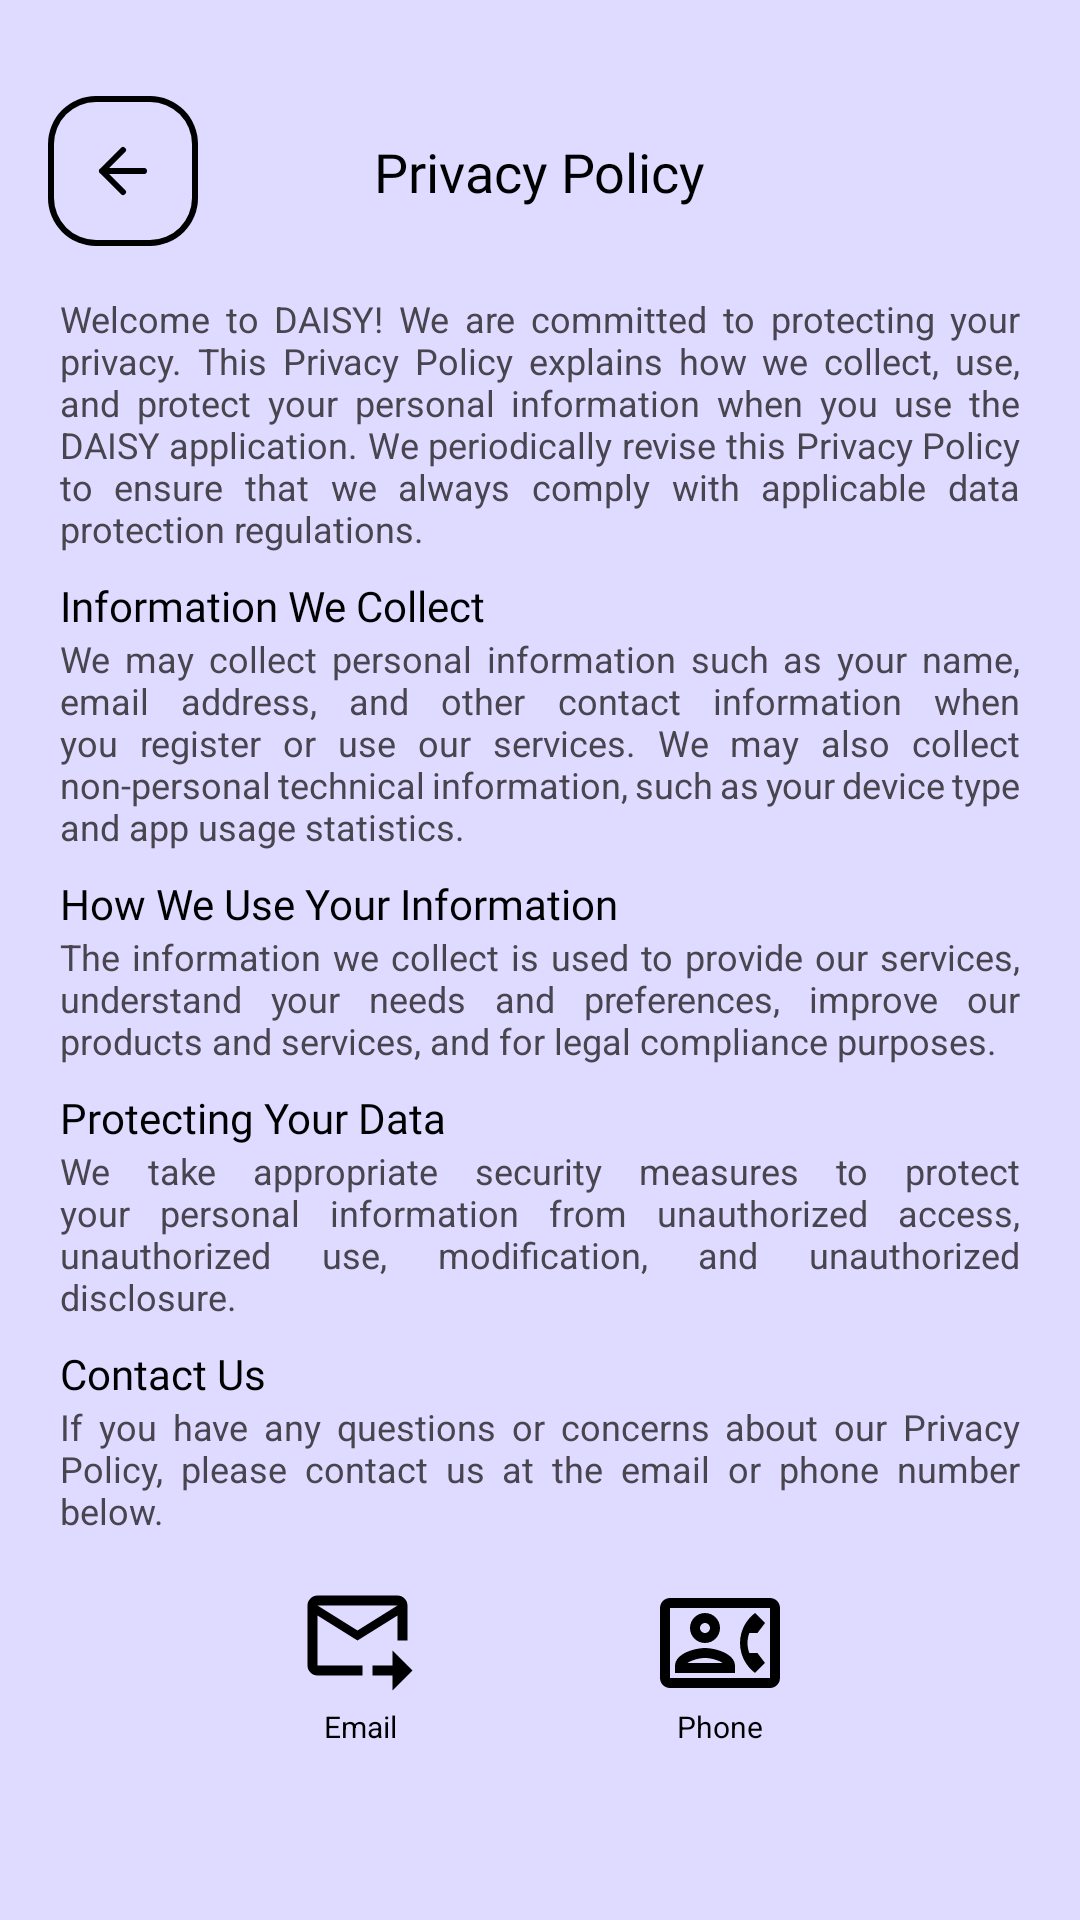

Screen size 1080x1920. Icon name, then its center in pixels as [x,y]:
arrow back: [123,171]
